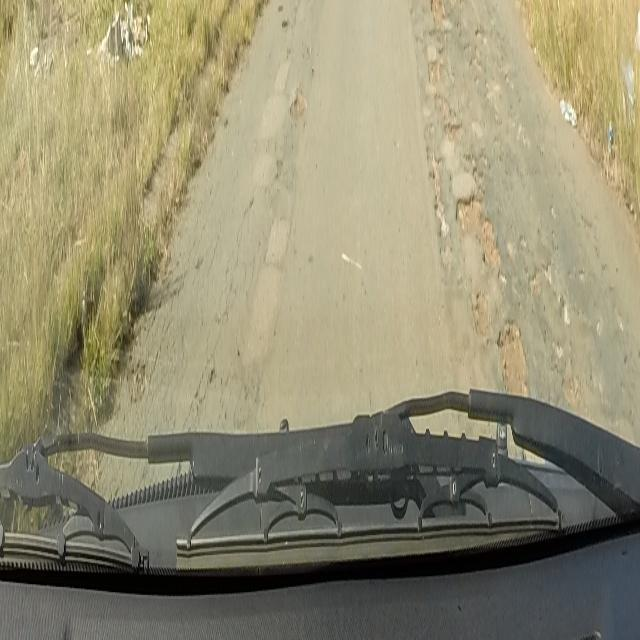pothole: (420, 54, 501, 280), (464, 290, 528, 399), (420, 0, 456, 39), (288, 85, 306, 117)
